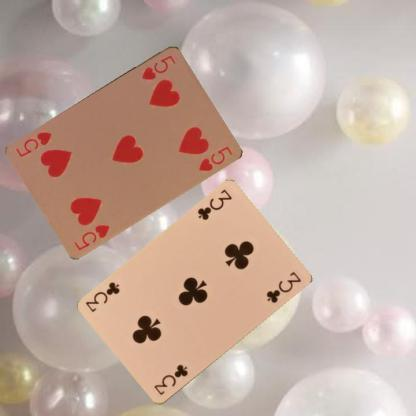3c: (152, 362, 190, 397), (195, 186, 233, 221)
5h: (72, 220, 112, 252), (138, 52, 176, 82)
